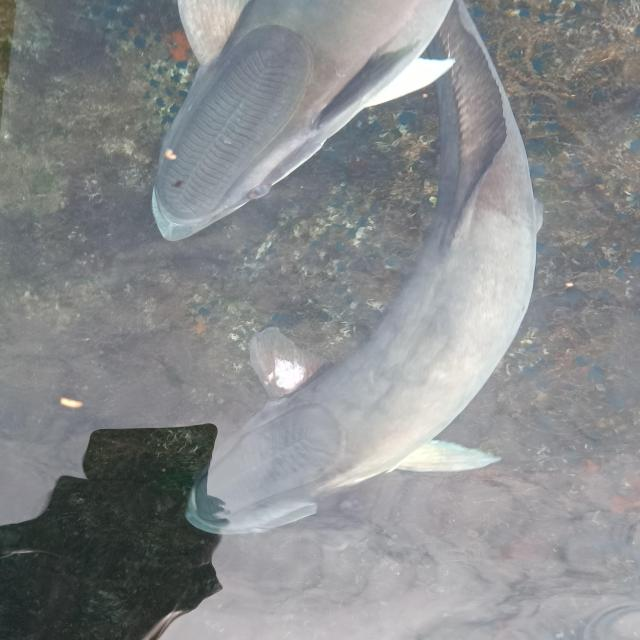ikan: (119, 285, 572, 560), (118, 7, 452, 250)
